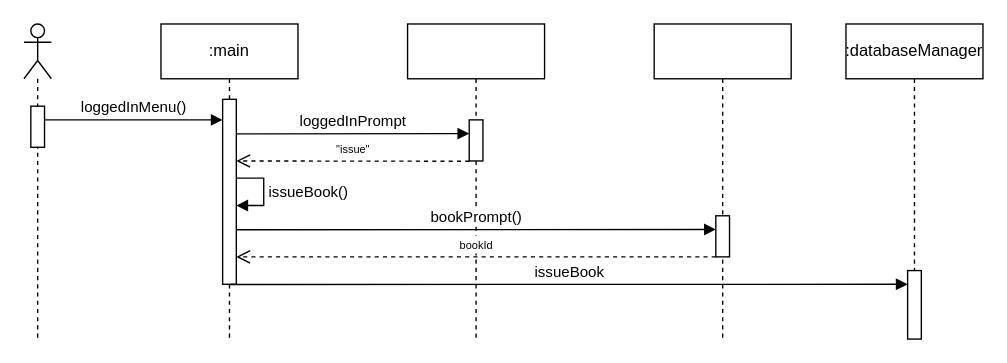
The diagram is 1007 pixels wide and 363 high, and some of its shapes have lost their labels. The shapes that lost their labels are listed below. From the top down, each one's centre as x and y in pixels, then its label:
the point at 475,181: :mainMenuPrompt
the point at 722,181: :booksPrompts
